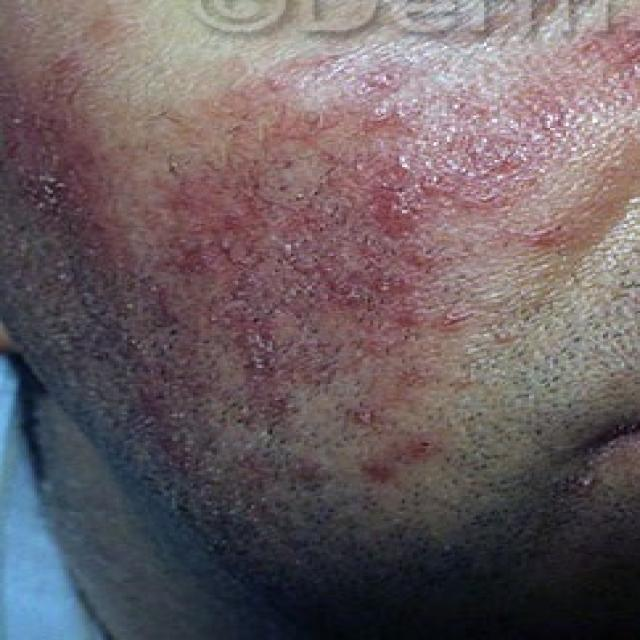Rosacea: (33, 91, 481, 421)
